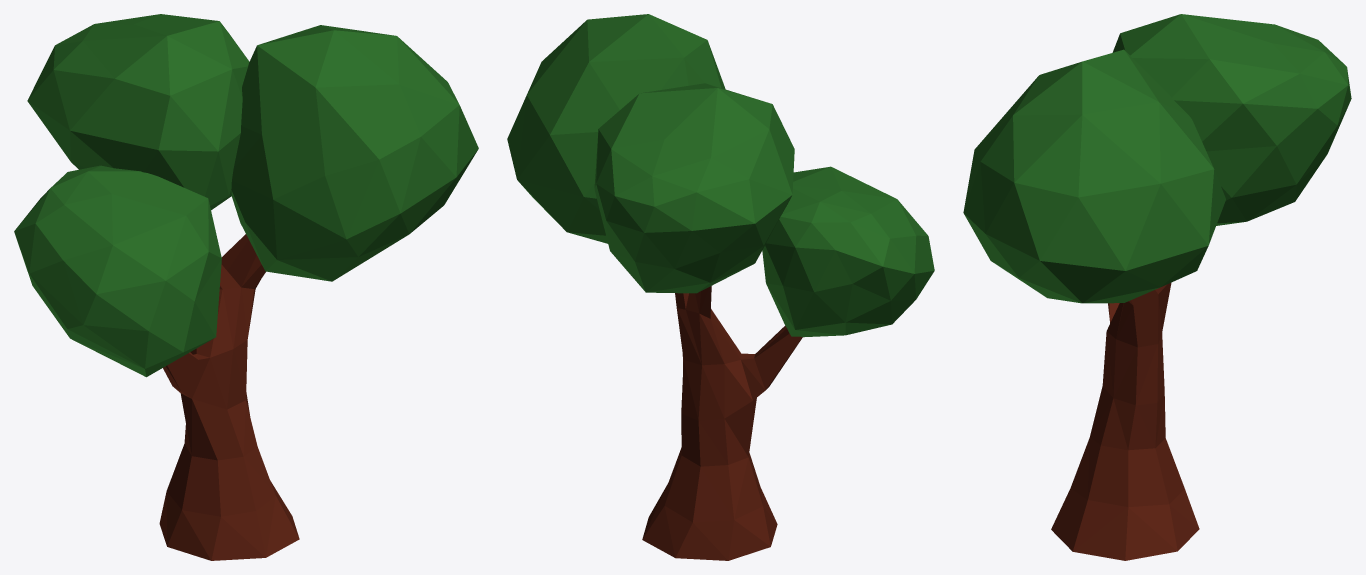
Rendered from tree.fbx.
3 views of the same model, side by side, from view 1: azimuth 30°, elevation 25°; view 2: azimuth 150°, elevation 25°; view 3: azimuth 270°, elevation 25° (orthographic). The views are drawn at different scales.
Visible parts, largest first — view 1: Cylinder; view 2: Cylinder; view 3: Cylinder.
Part boxes in pixels (x1=…): Cylinder: x1=14, y1=14, x2=478, y2=560; Cylinder: x1=507, y1=14, x2=934, y2=560; Cylinder: x1=963, y1=14, x2=1351, y2=560.
Size of the model in its own units: 883 by 1014 by 700.
